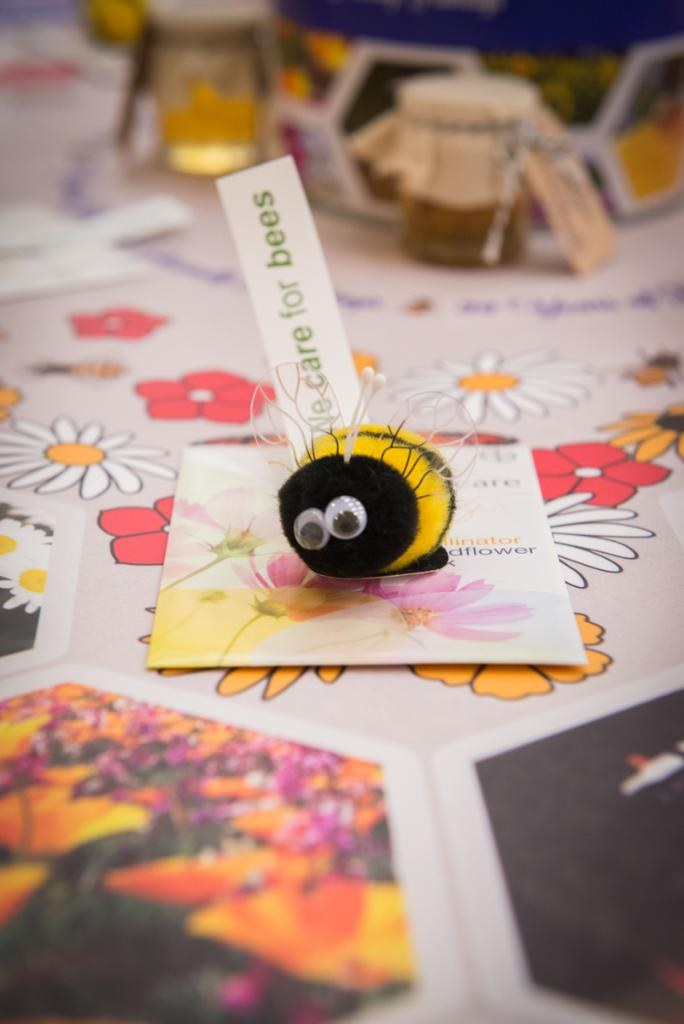insect: (248, 365, 486, 582)
